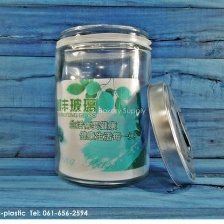bottle: (44, 21, 158, 190)
